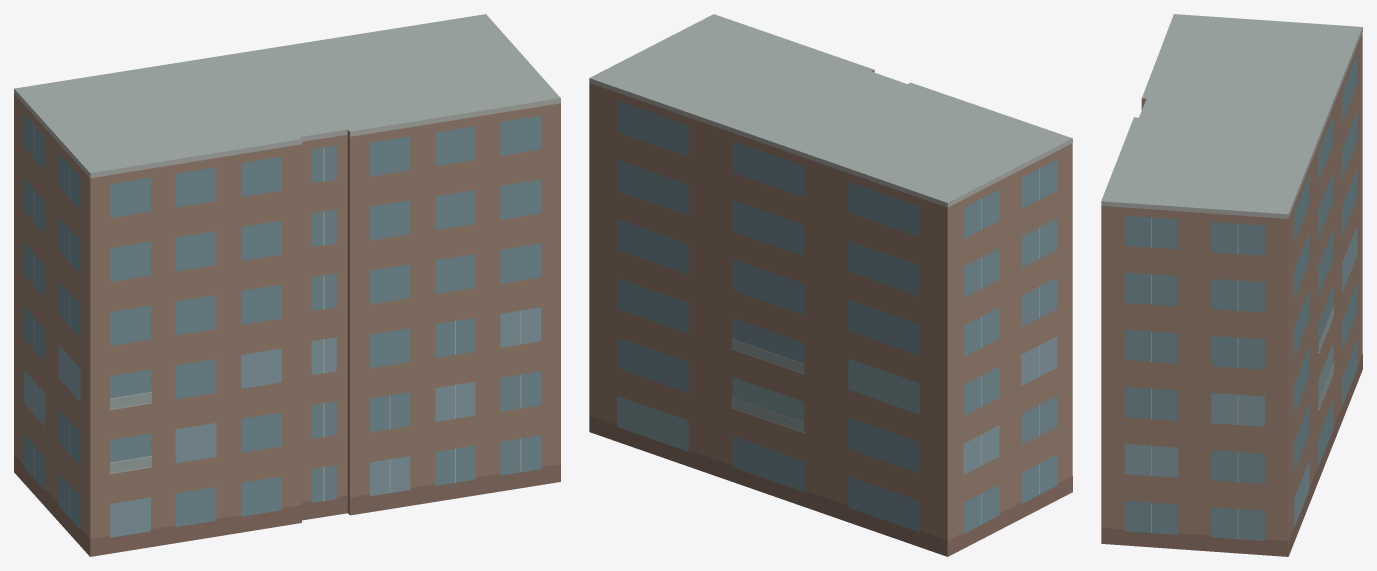
Rendered from survey-upis-32751872.glb.
3 views of the same model, side by side, from view 1: azimuth 30°, elevation 25°; view 2: azimuth 150°, elevation 25°; view 3: azimuth 270°, elevation 25° (orthographic). The views are drawn at different scales.
Visible parts, largest first — view 1: survey-upis-32751872.tmp; view 2: survey-upis-32751872.tmp; view 3: survey-upis-32751872.tmp.
Part boxes in pixels (x1=…): survey-upis-32751872.tmp: x1=14, y1=14, x2=560, y2=556; survey-upis-32751872.tmp: x1=589, y1=14, x2=1072, y2=556; survey-upis-32751872.tmp: x1=1101, y1=14, x2=1362, y2=556.
Bounding box in the file's own units: 22.97 × 18.3 × 12.68.
